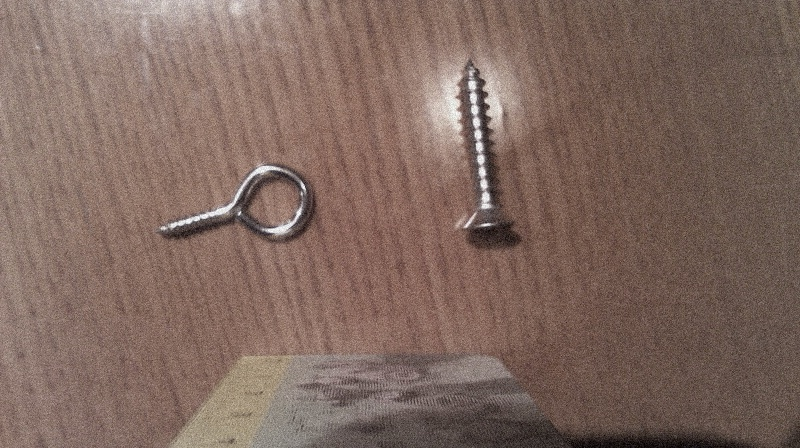O001: (147, 159, 319, 248)
S001: (450, 58, 523, 245)
